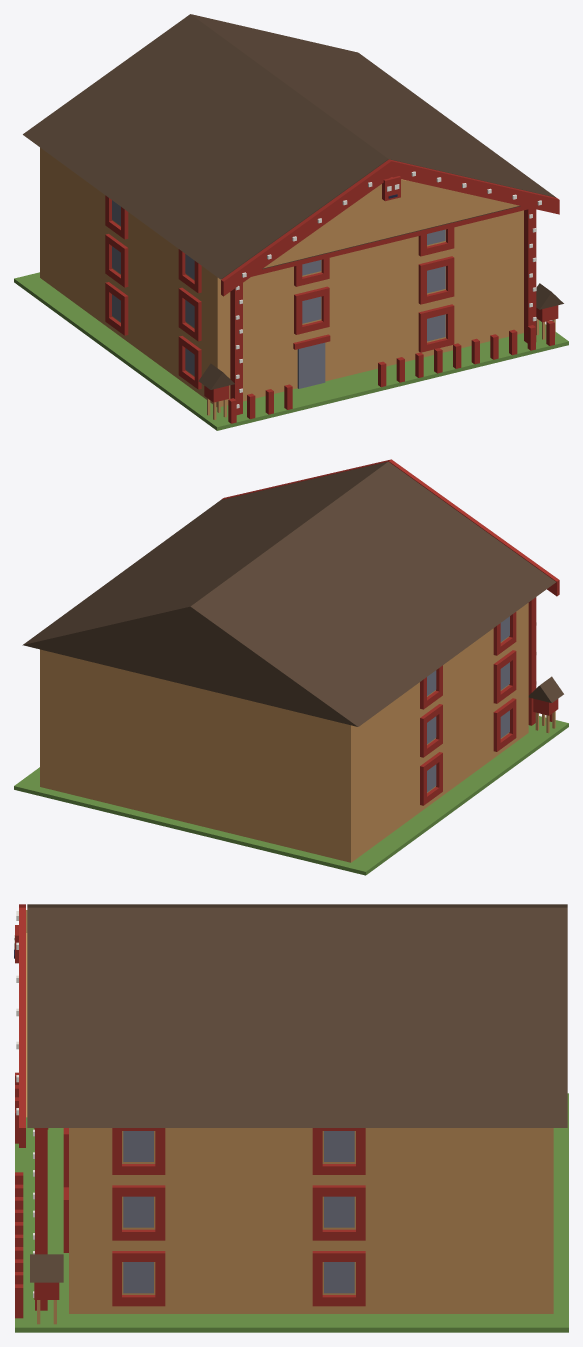
The model's file is house-2x2-3f-whare-a.glb.
The picture shows the model from 3 angles, top to bottom: view 1: azimuth 30°, elevation 25°; view 2: azimuth 150°, elevation 25°; view 3: azimuth 270°, elevation 25°; orthographic projection. The views are drawn at different scales.
Visible parts, largest first — view 1: house-2x2-3f-whare-a; view 2: house-2x2-3f-whare-a; view 3: house-2x2-3f-whare-a.
Boxes of the visible parts, x1,y1,x2,y2 form: house-2x2-3f-whare-a: (14,14,568,430); house-2x2-3f-whare-a: (14,459,568,875); house-2x2-3f-whare-a: (14,904,568,1332).
Size of the model in its own units: 2 by 1.22 by 1.99.
1 material, 1 textured.
